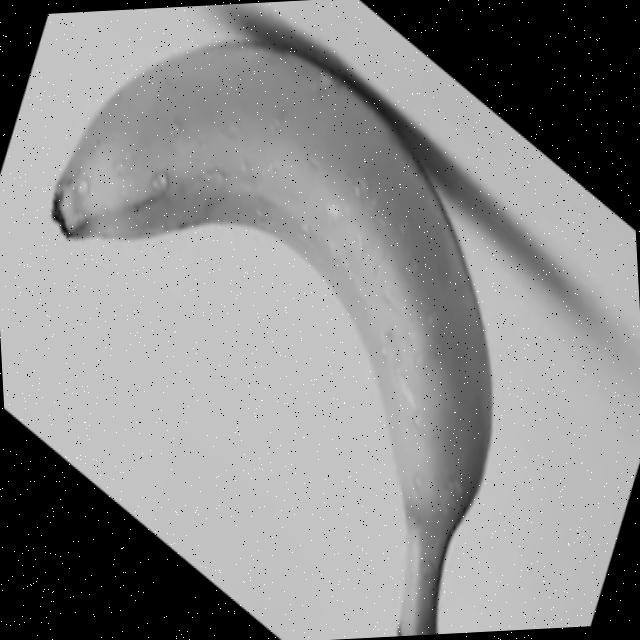Ripe: (37, 24, 509, 640)
